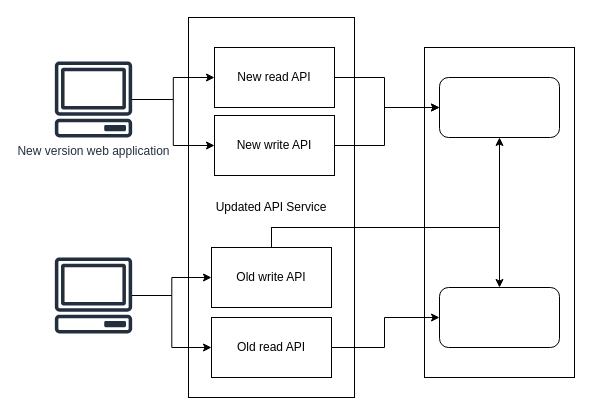
Image size: 592x415. Some labels were removed from this diagram. The shapes that lost their labels are listed below. From the top down, each one's centre as x and y in pixels, then its label:
At (499,107): "New Table B".
At (93,295): "Old version web application".
At (499,317): "Old Table A".
